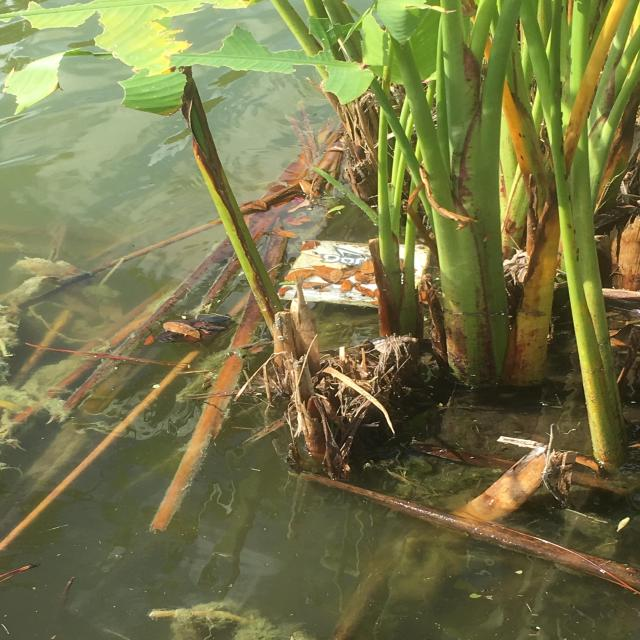litter: (321, 160, 411, 272)
